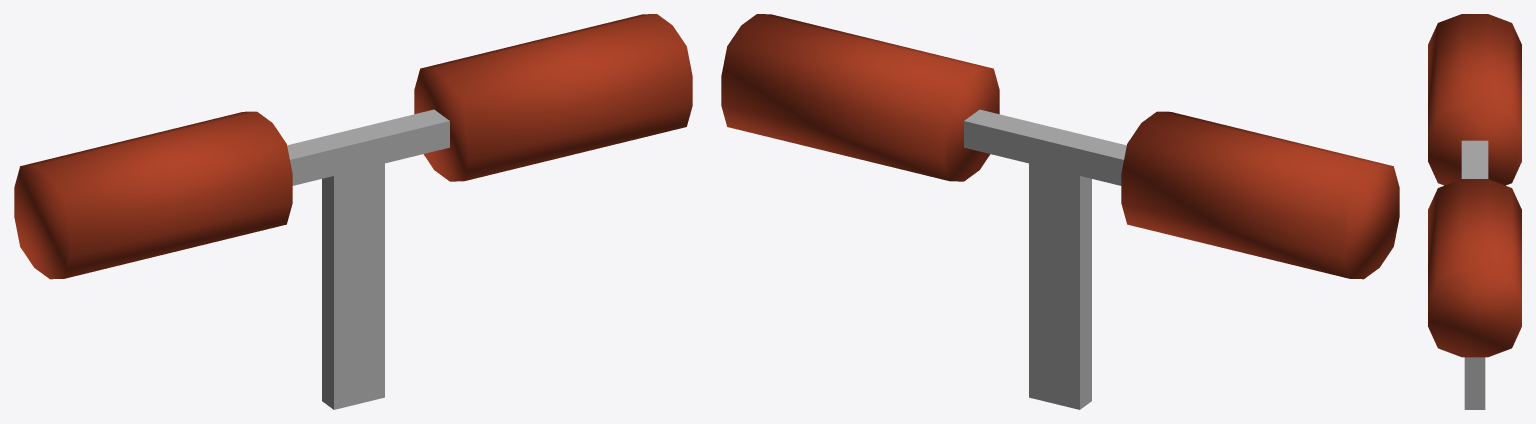
File: emachine_ac_1.glb
3 views of the same model, side by side, from view 1: azimuth 30°, elevation 25°; view 2: azimuth 150°, elevation 25°; view 3: azimuth 270°, elevation 25° (orthographic). The views are drawn at different scales.
Visible parts, largest first — view 1: E_Machine_Ac_1; view 2: E_Machine_Ac_1; view 3: E_Machine_Ac_1.
Part boxes in pixels (x1,y1,x2,y2): E_Machine_Ac_1: (14, 14, 692, 409); E_Machine_Ac_1: (721, 14, 1399, 409); E_Machine_Ac_1: (1428, 14, 1521, 409).
Bounding box in the file's own units: 0.7408 × 0.3451 × 0.1144.
1 material, 1 textured.
